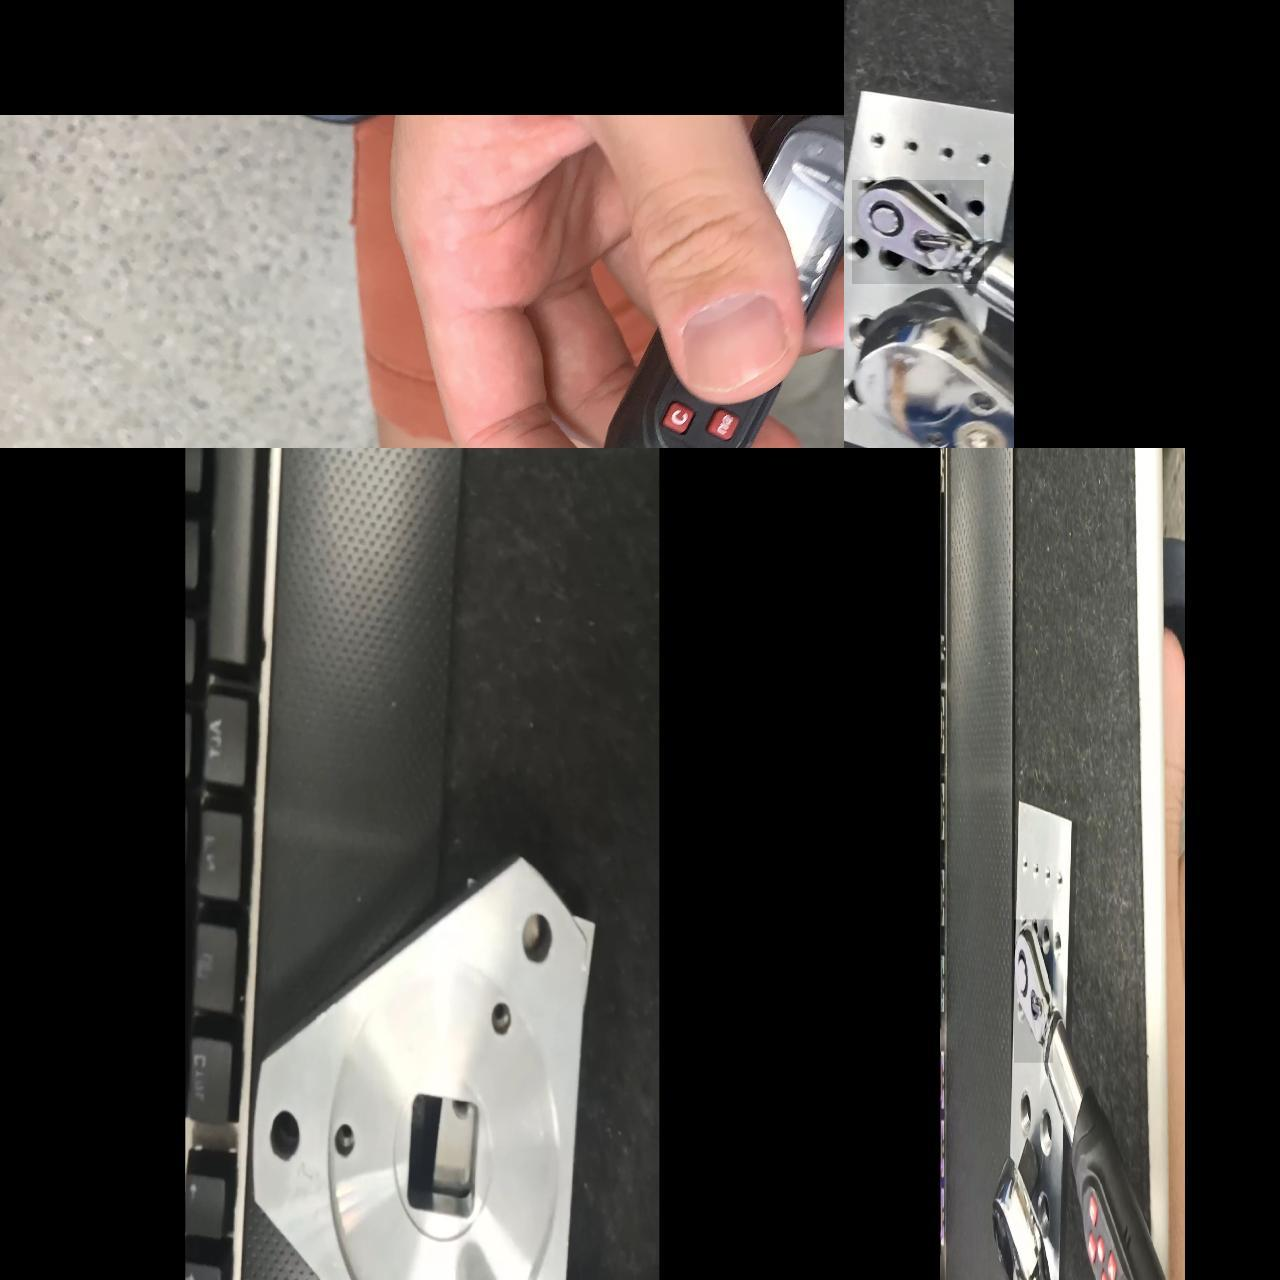Tool: (850, 291, 1013, 448), (851, 181, 983, 284), (992, 1131, 1063, 1280), (1014, 919, 1053, 1063)
hole: (503, 906, 553, 967), (254, 1109, 306, 1167), (953, 402, 1002, 444), (959, 186, 986, 217), (931, 178, 954, 210), (856, 164, 884, 189), (934, 137, 958, 163), (971, 144, 994, 169), (863, 121, 886, 145), (850, 238, 872, 264), (877, 247, 900, 271), (896, 124, 917, 147)
